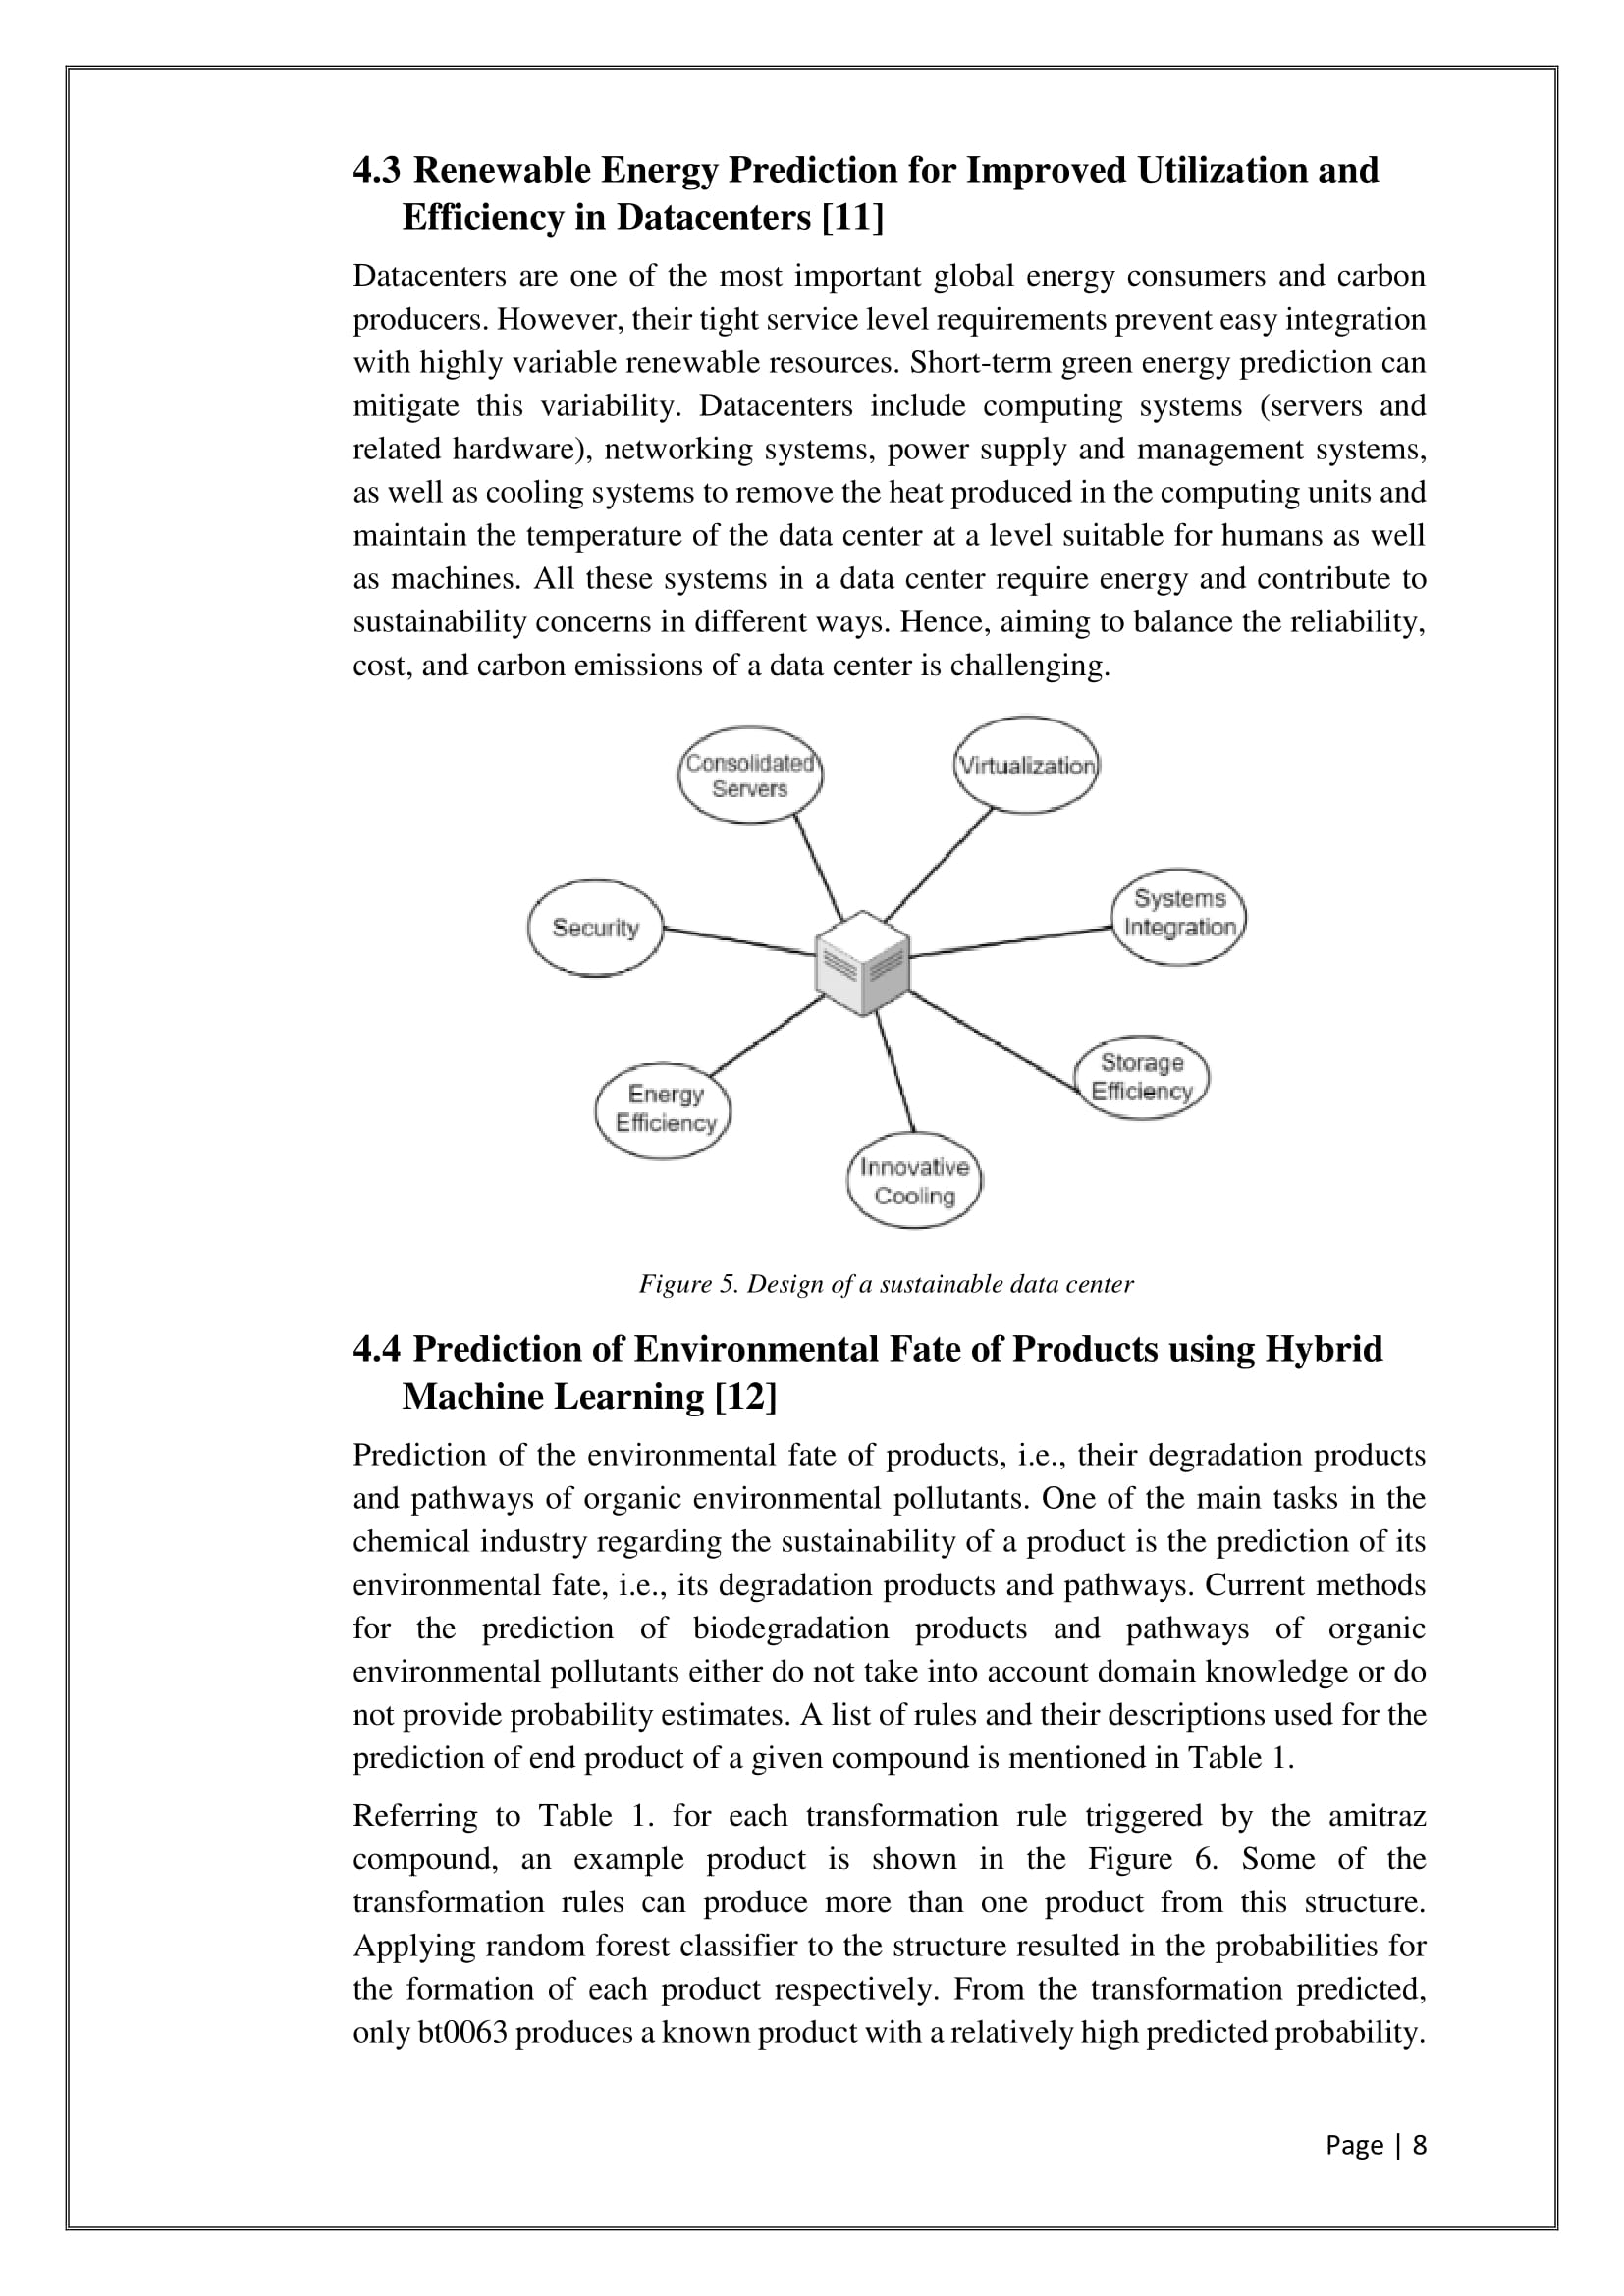BB1: (292, 121, 1506, 692)
BB2: (304, 1316, 1471, 2069)
